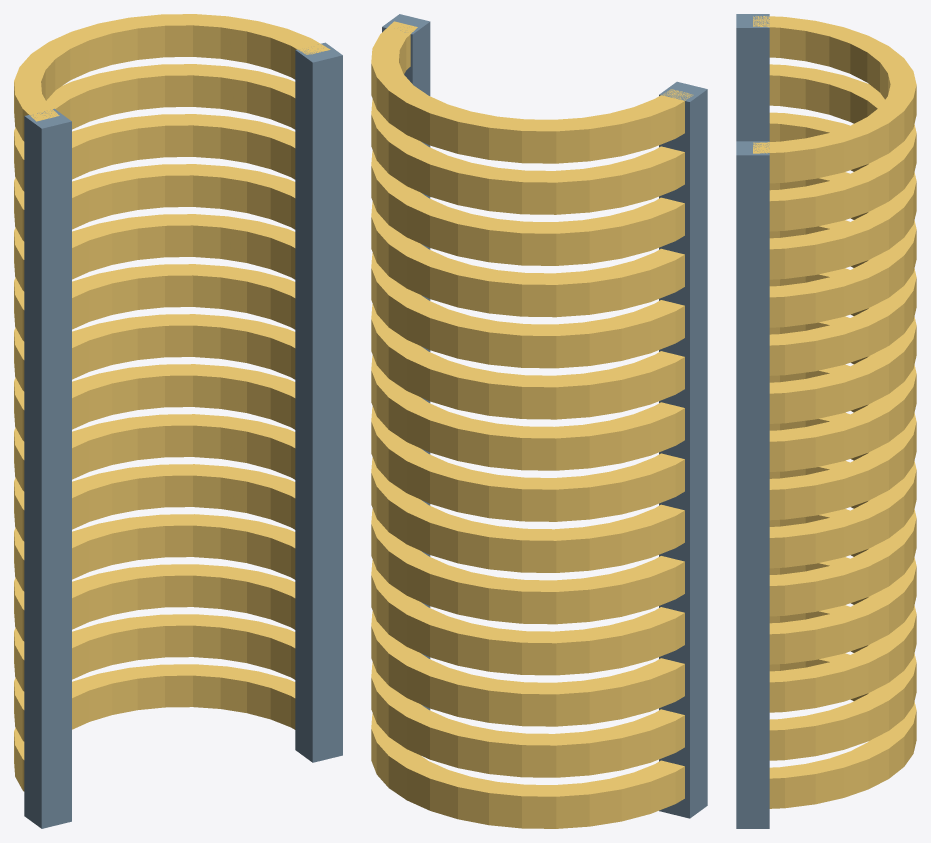
The model's file is screen.fbx.
3 views of the same model, side by side, from view 1: azimuth 30°, elevation 25°; view 2: azimuth 150°, elevation 25°; view 3: azimuth 270°, elevation 25° (orthographic). The views are drawn at different scales.
Visible parts, largest first — view 1: rail_r, rail_l, band_0, band_1, band_13, band_11, band_12, band_9, band_10, band_8, band_4, band_5 (+4 smaller); view 2: rail_l, band_0, band_5, band_6, band_11, band_12, band_1, band_10, band_7, band_13, band_4, band_9 (+4 smaller); view 3: rail_r, band_0, band_1, band_2, band_13, band_4, band_5, band_8, band_9, band_6, band_7, band_12 (+4 smaller).
Boxes of the visible parts, <box> form: rail_r: <box>295,42,342,762</box>; rail_l: <box>24,108,71,828</box>; band_0: <box>14,14,330,141</box>; band_1: <box>14,64,295,191</box>; band_13: <box>14,664,295,791</box>; band_11: <box>14,564,295,691</box>; band_12: <box>14,614,295,741</box>; band_9: <box>14,464,295,591</box>; band_10: <box>14,514,295,641</box>; band_8: <box>14,414,295,541</box>; band_4: <box>14,214,295,341</box>; band_5: <box>14,264,295,391</box>; rail_l: <box>659,81,707,818</box>; band_0: <box>371,21,693,163</box>; band_5: <box>371,304,684,419</box>; band_6: <box>371,355,684,470</box>; band_11: <box>371,611,684,726</box>; band_12: <box>371,662,684,777</box>; band_1: <box>371,99,684,214</box>; band_10: <box>371,560,684,675</box>; band_7: <box>371,406,684,521</box>; band_13: <box>371,713,684,828</box>; band_4: <box>371,253,684,368</box>; band_9: <box>371,509,684,624</box>; rail_r: <box>736,141,769,828</box>; band_0: <box>753,16,916,183</box>; band_1: <box>769,64,916,231</box>; band_2: <box>769,112,916,279</box>; band_13: <box>769,653,916,808</box>; band_4: <box>769,220,916,375</box>; band_5: <box>769,268,916,423</box>; band_8: <box>769,412,916,568</box>; band_9: <box>769,460,916,616</box>; band_6: <box>769,316,916,471</box>; band_7: <box>769,364,916,520</box>; band_12: <box>769,605,916,760</box>.
Size of the model in its own units: 0.45 by 1 by 0.2425.
